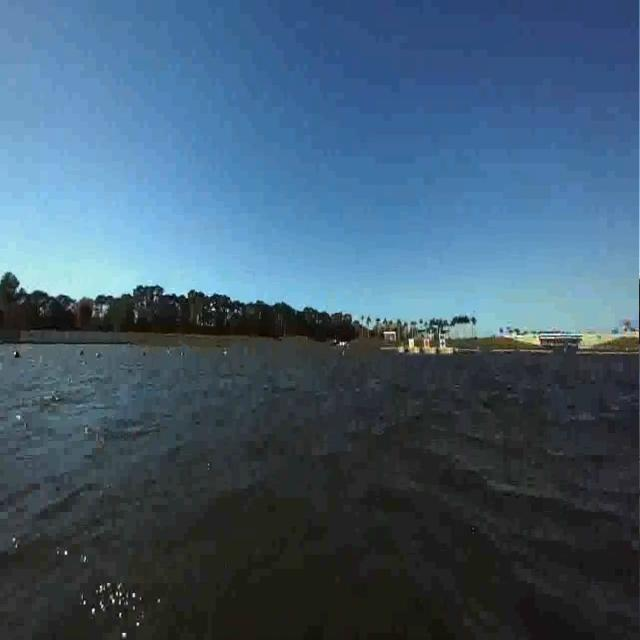black-buoy: (12, 348, 21, 361)
